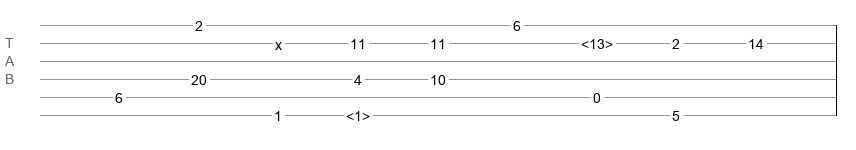0: (593, 90, 601, 100)
1: (274, 108, 282, 118)
10: (430, 72, 446, 82)
11: (350, 36, 366, 46), (430, 36, 446, 46)
14: (748, 36, 764, 46)
2: (195, 18, 203, 28), (672, 36, 680, 46)
20: (191, 72, 207, 82)
4: (354, 72, 362, 82)
5: (672, 108, 680, 118)
6: (115, 90, 123, 100), (513, 18, 521, 28)
harmonic: (581, 36, 613, 46), (346, 108, 370, 118)
x: (275, 37, 282, 45)
